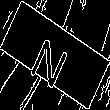N_NE: (31, 23, 79, 87)
